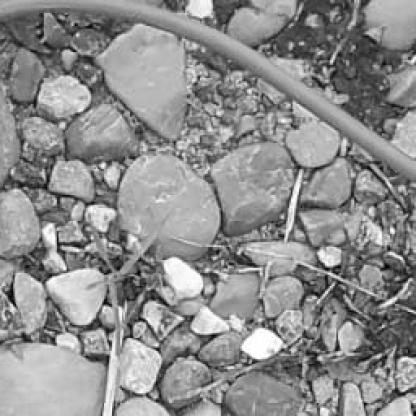wires: (0, 0, 414, 184)
